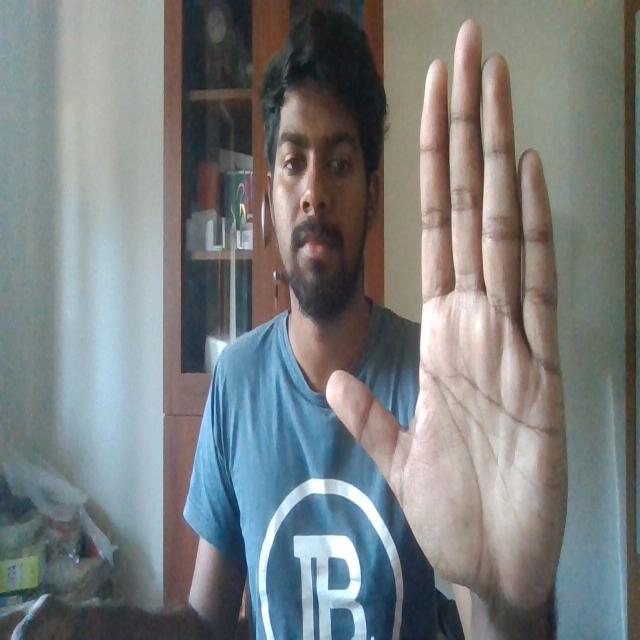Hello: (313, 14, 581, 626)
